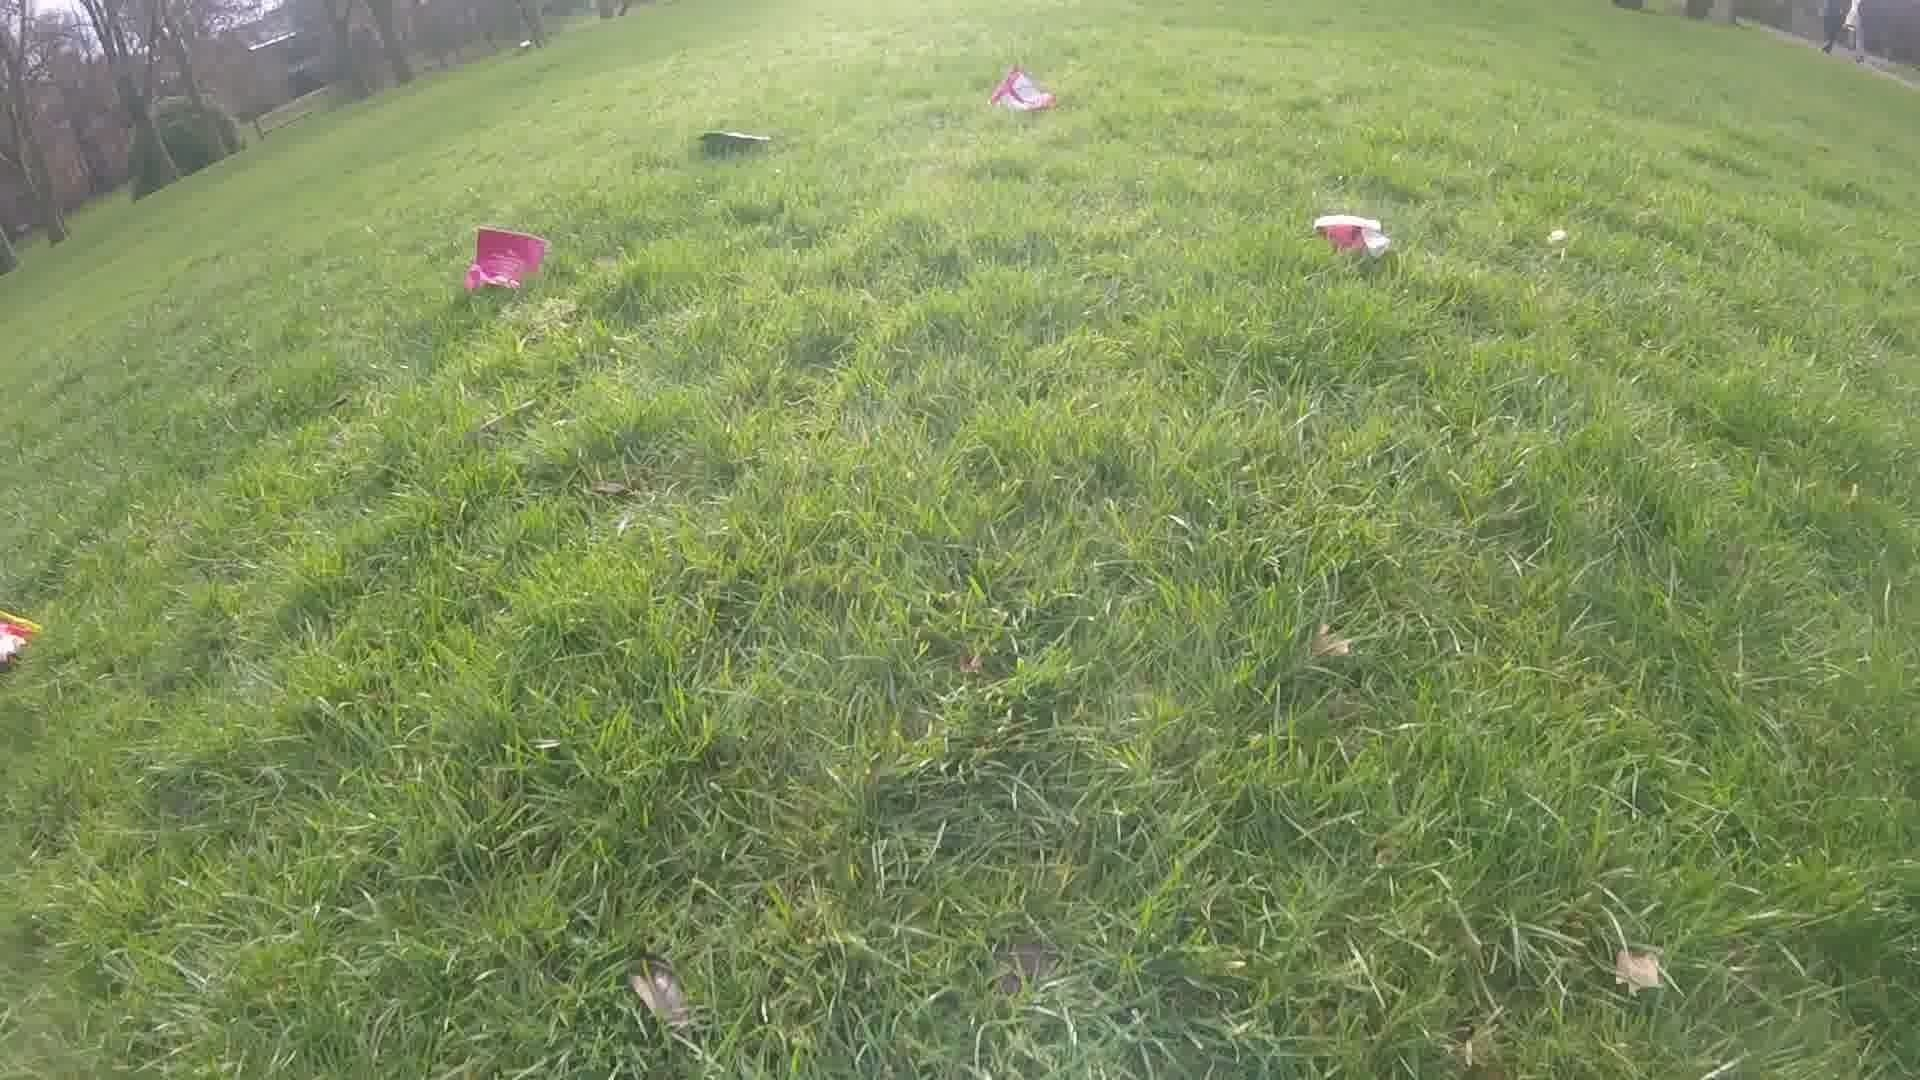litter: (467, 224, 547, 289), (1311, 218, 1396, 257), (989, 75, 1055, 117), (0, 603, 32, 674), (683, 135, 771, 140)
